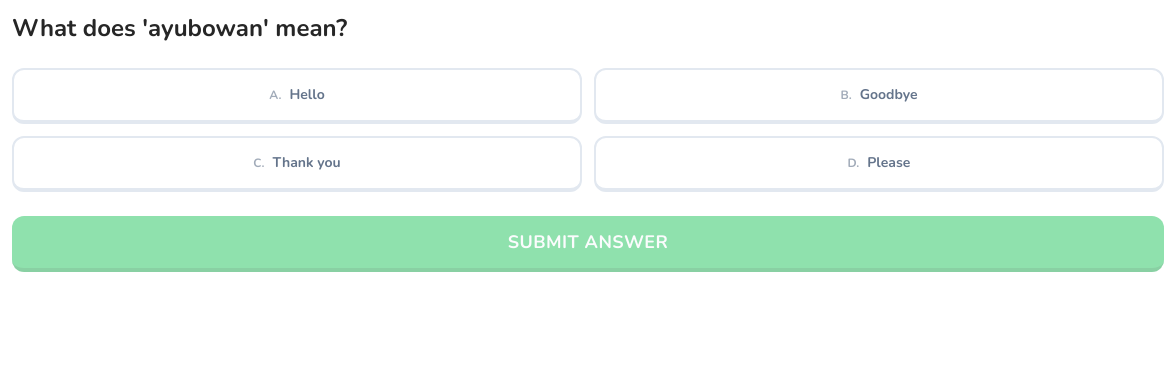
QuizCard › MCQ questions › submits correct MCQ answer and shows explanation
// Select answer
Click the button "A. Hello".
click(297, 96)  # box [12,68,582,124]
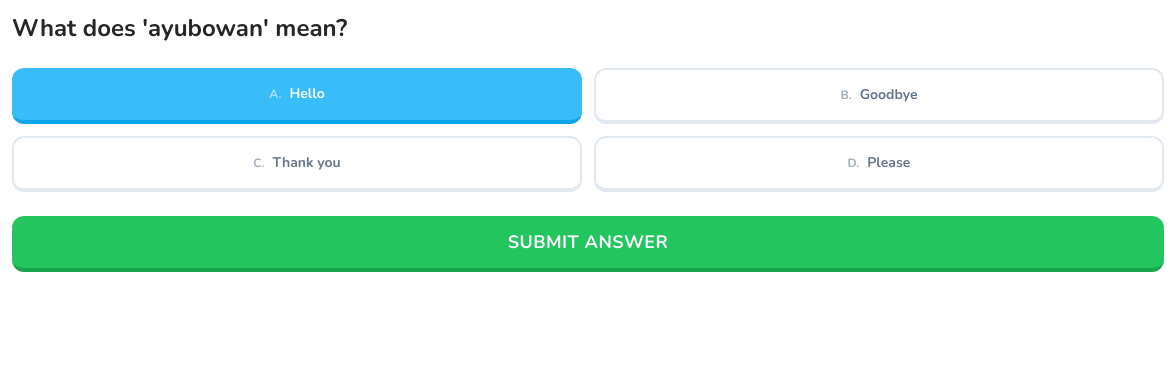
Click the button "Submit Answer".
click(588, 244)  # box [12,216,1164,272]
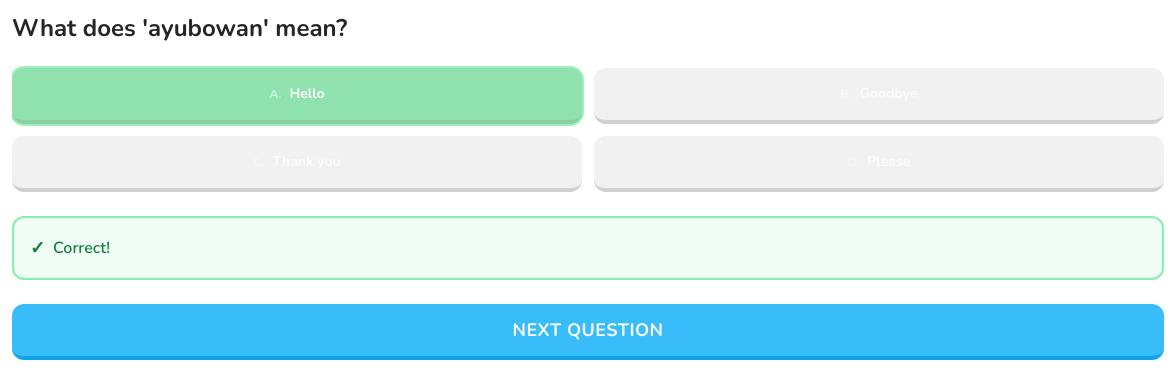
Now the text "Correct!" is shown, box [53,236,110,260]
